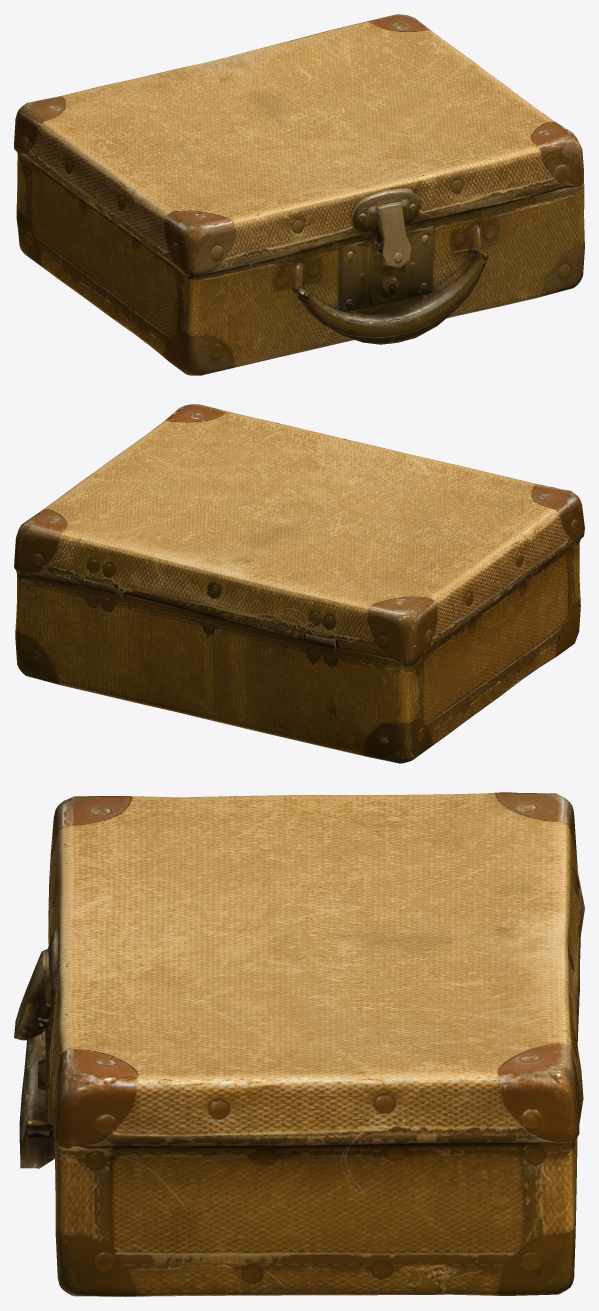
Rendered from vintage_suitcase.glb.
3 renders of one model, top to bottom at view 1: azimuth 30°, elevation 25°; view 2: azimuth 150°, elevation 25°; view 3: azimuth 270°, elevation 25°, orthographic. The views are drawn at different scales.
Visible parts, largest first — view 1: Suitcase_LP; view 2: Suitcase_LP; view 3: Suitcase_LP.
Boxes of the visible parts, x1,y1,x2,y2 form: Suitcase_LP: [14, 14, 584, 375]; Suitcase_LP: [14, 404, 584, 763]; Suitcase_LP: [14, 792, 584, 1296].
Size of the model in its own units: 51.22 by 18.92 by 42.44.
Materials: 1 (1 with a texture image).
